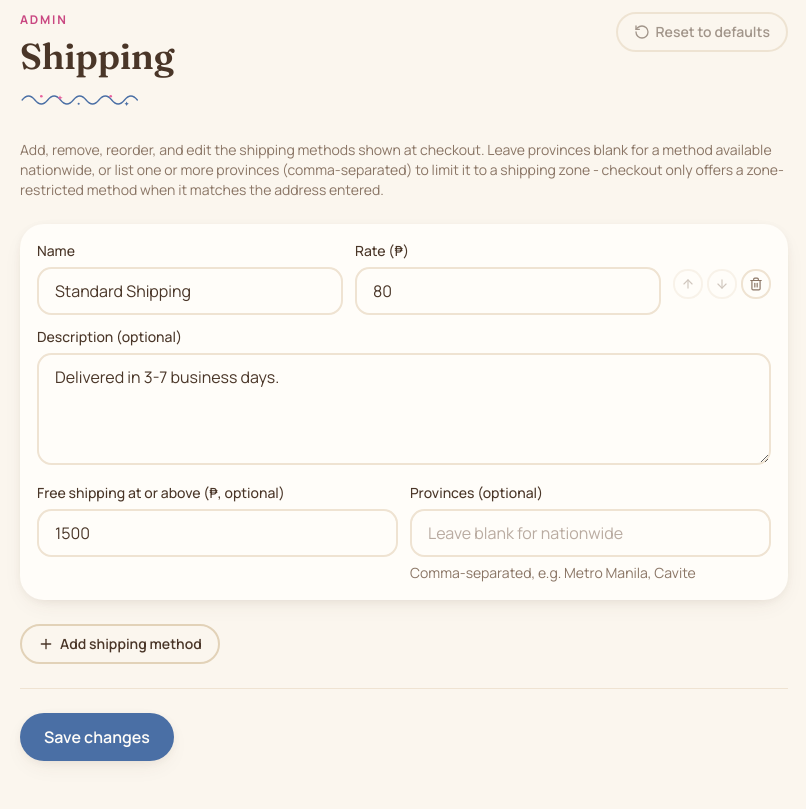
ShippingEditor › blocks saving with an invalid rate
Replace the text in the field labelled "Rate (₱)" with "-5" at point(508, 291), box [355,267,661,315]
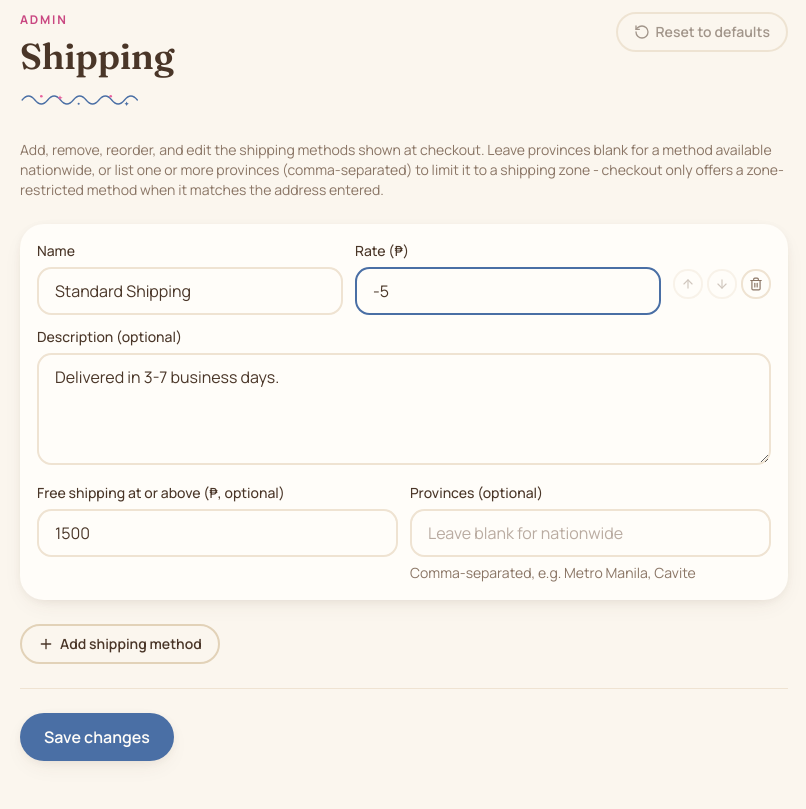
Click the button "Save changes" at point(97, 737), box [20,713,174,761]
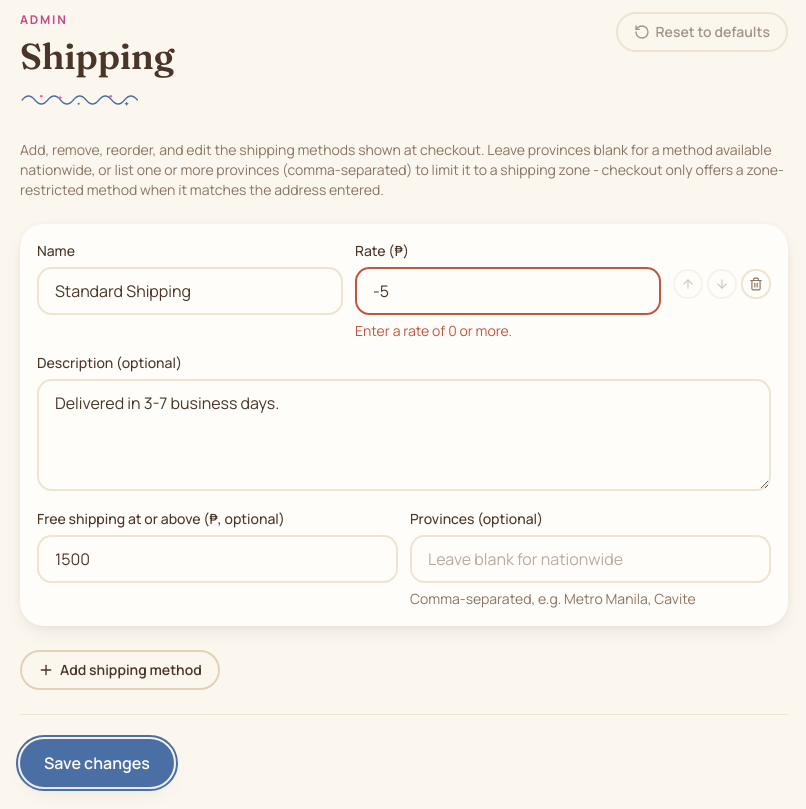
Check: the text "Enter a rate of 0 or more." is shown, box [355,321,512,340]
